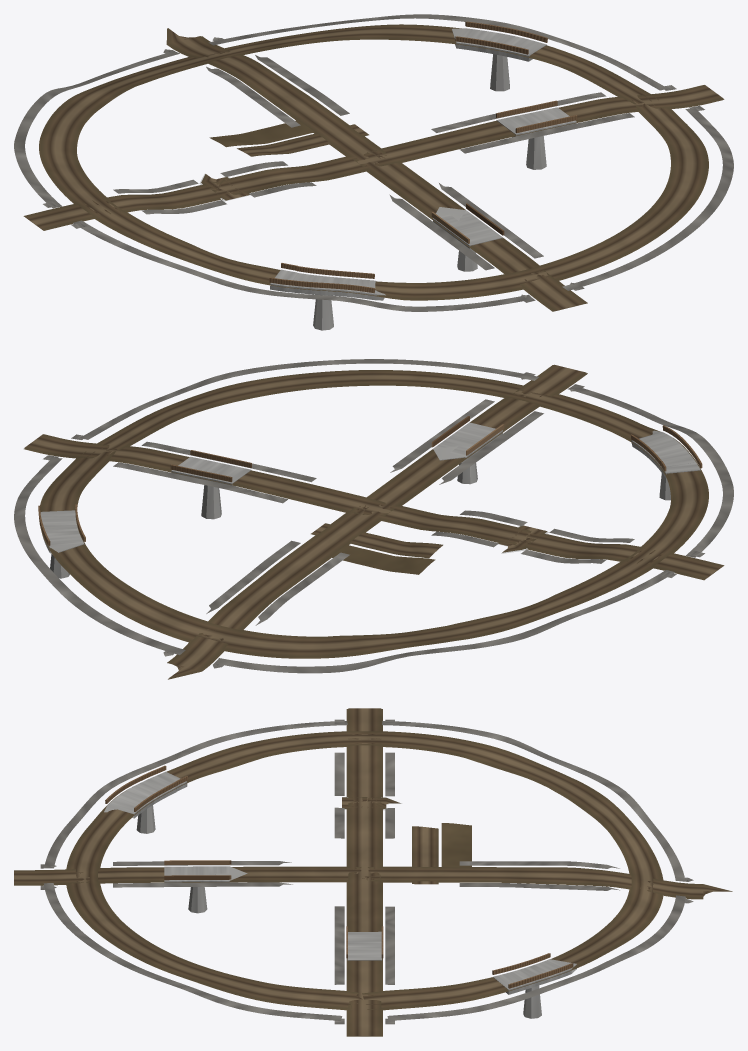
Rendered from Roads_P1.fbx.
The picture shows the model from 3 angles, top to bottom: view 1: azimuth 30°, elevation 25°; view 2: azimuth 150°, elevation 25°; view 3: azimuth 270°, elevation 25°; orthographic projection. The views are drawn at different scales.
Parts seen in each view (by area): view 1: Road.Loop, Road.X, Road.Y, Walk.Ring0, Road.Loop.shoulder, Road.Loop.Bridge1.Deck, Road.X.shoulder, Road.Loop.Bridge0.Deck, Road.Y.Bridge0.Deck, Road.Y.shoulder, Street.TownN.shoulder, Street.TownN (+14 smaller); view 2: Road.Loop, Walk.Ring0, Road.Y, Road.X, Road.Loop.shoulder, Road.X.shoulder, Road.Loop.Bridge1.Deck, Street.TownN.shoulder, Road.Y.shoulder, Road.Loop.Bridge0.Deck, Road.Y.Bridge0.Deck, Street.TownN (+10 smaller); view 3: Road.Loop, Road.X, Walk.Ring0, Road.Y, Road.Loop.shoulder, Road.Loop.Bridge1.Deck, Road.Y.shoulder, Street.TownN.shoulder, Road.Loop.Bridge0.Deck, Road.X.shoulder, Street.TownN, Road.X.Bridge0.Deck (+9 smaller).
Boxes of the visible parts, box(x1,y1,x2,y2) form: Road.Loop: box(41, 24, 706, 299); Road.X: box(24, 85, 723, 229); Road.Y: box(168, 28, 585, 310); Walk.Ring0: box(14, 14, 733, 311); Road.Loop.shoulder: box(39, 24, 708, 300); Road.Loop.Bridge1.Deck: box(270, 269, 385, 300); Road.X.shoulder: box(23, 85, 724, 230); Road.Loop.Bridge0.Deck: box(451, 28, 546, 61); Road.Y.Bridge0.Deck: box(433, 207, 502, 250); Road.Y.shoulder: box(166, 28, 587, 311); Street.TownN.shoulder: box(209, 120, 314, 147); Street.TownN: box(237, 124, 368, 156); Road.Loop: box(41, 370, 706, 656); Walk.Ring0: box(14, 359, 733, 673); Road.Y: box(168, 364, 586, 678); Road.X: box(24, 434, 723, 578); Road.Loop.shoulder: box(39, 370, 708, 658); Road.X.shoulder: box(24, 434, 724, 580); Road.Loop.Bridge1.Deck: box(631, 430, 700, 478); Street.TownN.shoulder: box(330, 545, 435, 574); Road.Y.shoulder: box(167, 365, 587, 679); Road.Loop.Bridge0.Deck: box(40, 510, 84, 554); Road.Y.Bridge0.Deck: box(433, 422, 502, 463); Street.TownN: box(311, 523, 442, 558); Road.Loop: box(68, 731, 661, 1009); Road.X: box(348, 708, 381, 1035); Walk.Ring0: box(43, 721, 685, 1020); Road.Y: box(14, 867, 731, 898); Road.Loop.shoulder: box(66, 731, 663, 1010); Road.Loop.Bridge1.Deck: box(104, 771, 187, 818); Road.Y.shoulder: box(14, 866, 732, 899); Street.TownN.shoulder: box(441, 823, 471, 867); Road.Loop.Bridge0.Deck: box(493, 959, 576, 994); Road.X.shoulder: box(346, 709, 382, 1036); Street.TownN: box(412, 826, 438, 884); Road.X.Bridge0.Deck: box(347, 931, 381, 960).
Bounding box in the file's own units: 18400 × 1809 × 18879.
